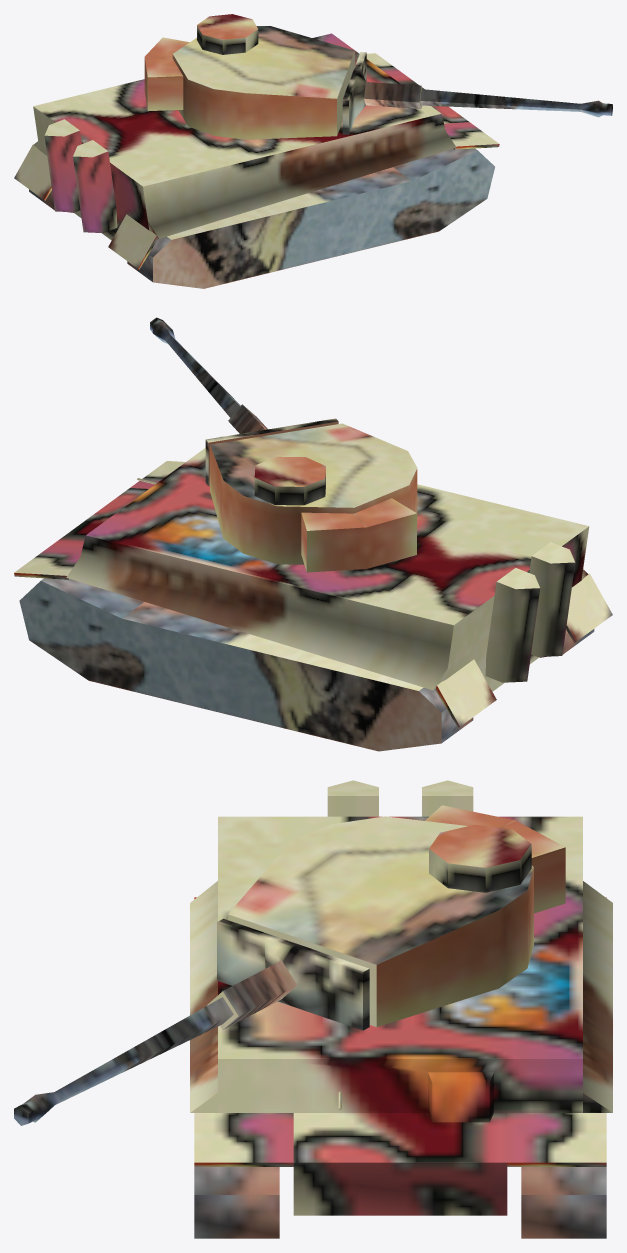
Rendered from icondata.0.obj.
3 renders of one model, top to bottom at view 1: azimuth 30°, elevation 25°; view 2: azimuth 150°, elevation 25°; view 3: azimuth 270°, elevation 25°, orthographic. The views are drawn at different scales.
Size of the model in its own units: 4.95 by 1.84 by 3.49.
